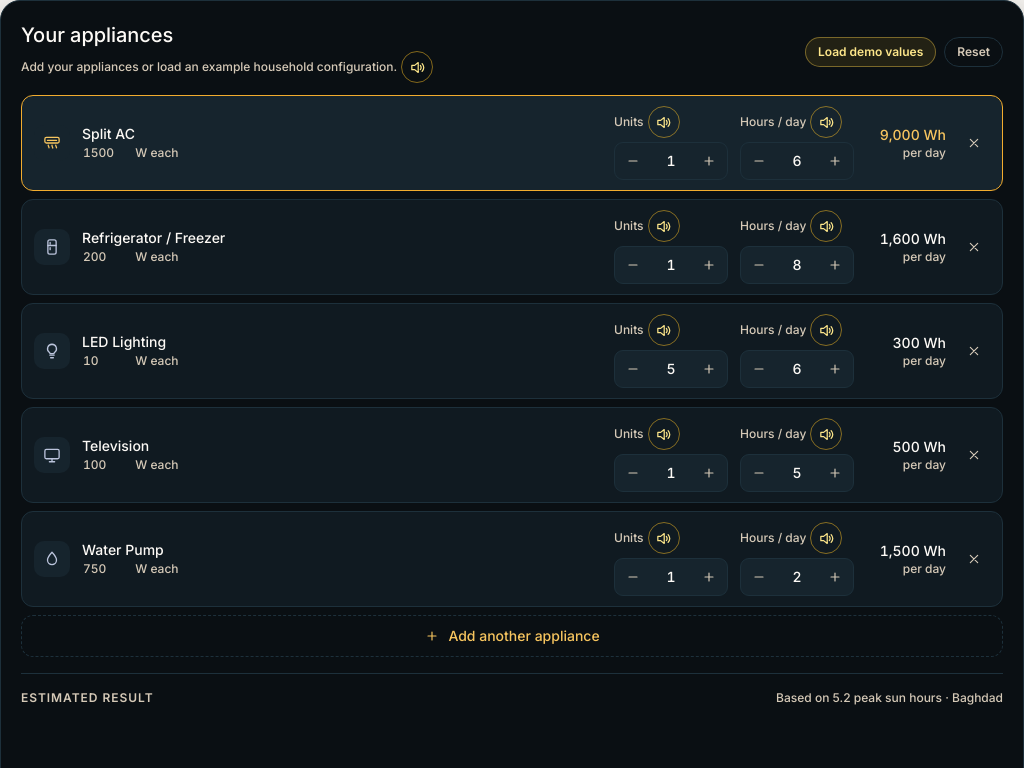
Test case: SolarCalculator smart devices › adds an evaporative cooler with its defaults, which can be turned off and removed
Click the button "Add another appliance": {"x": 512, "y": 636} [21, 615, 1003, 657]
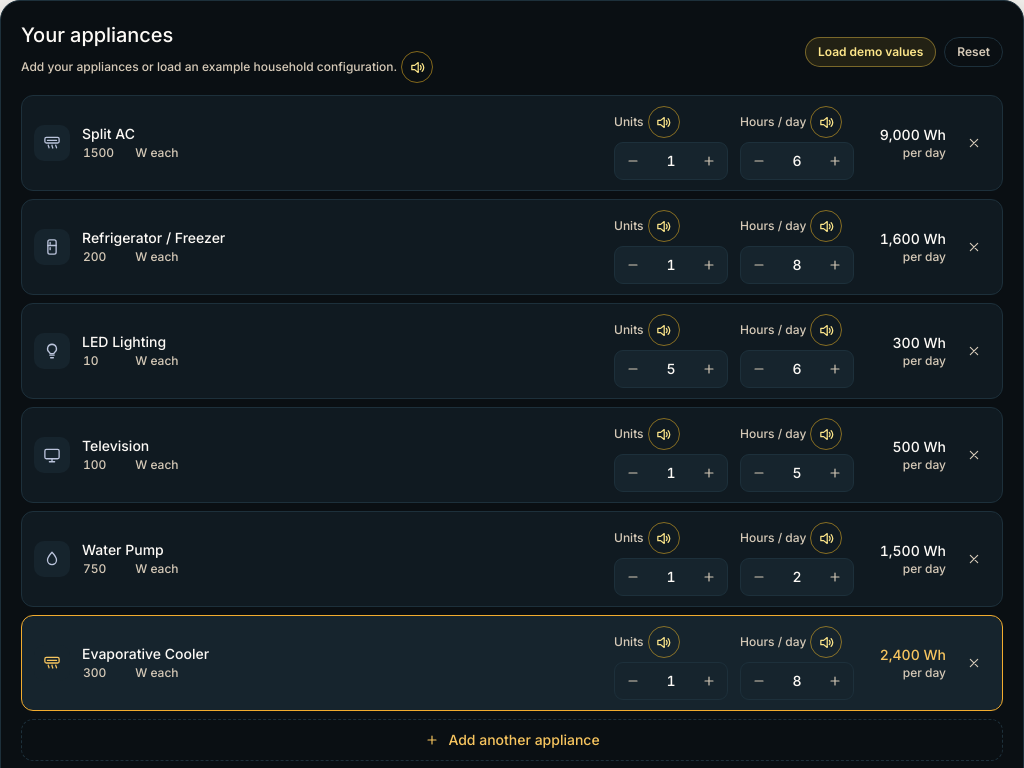
Click the button named "Decrease Evaporative Cooler units": {"x": 633, "y": 681} [615, 663, 651, 699]
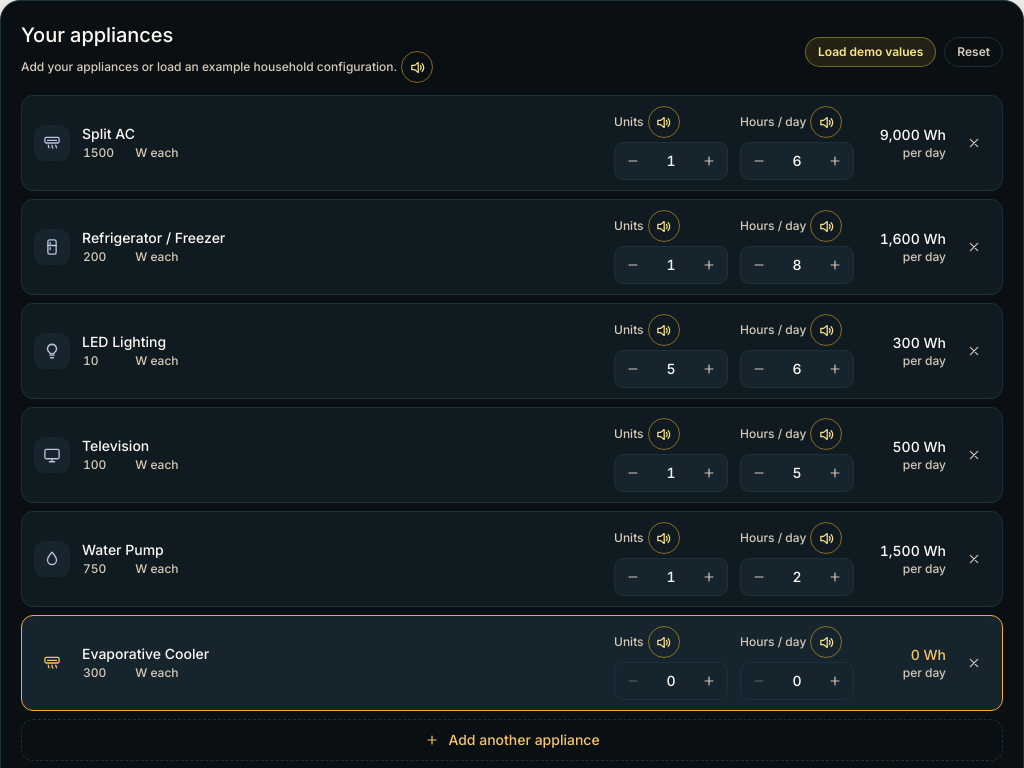
Click the button named "Remove Evaporative Cooler": {"x": 974, "y": 663} [958, 647, 990, 679]
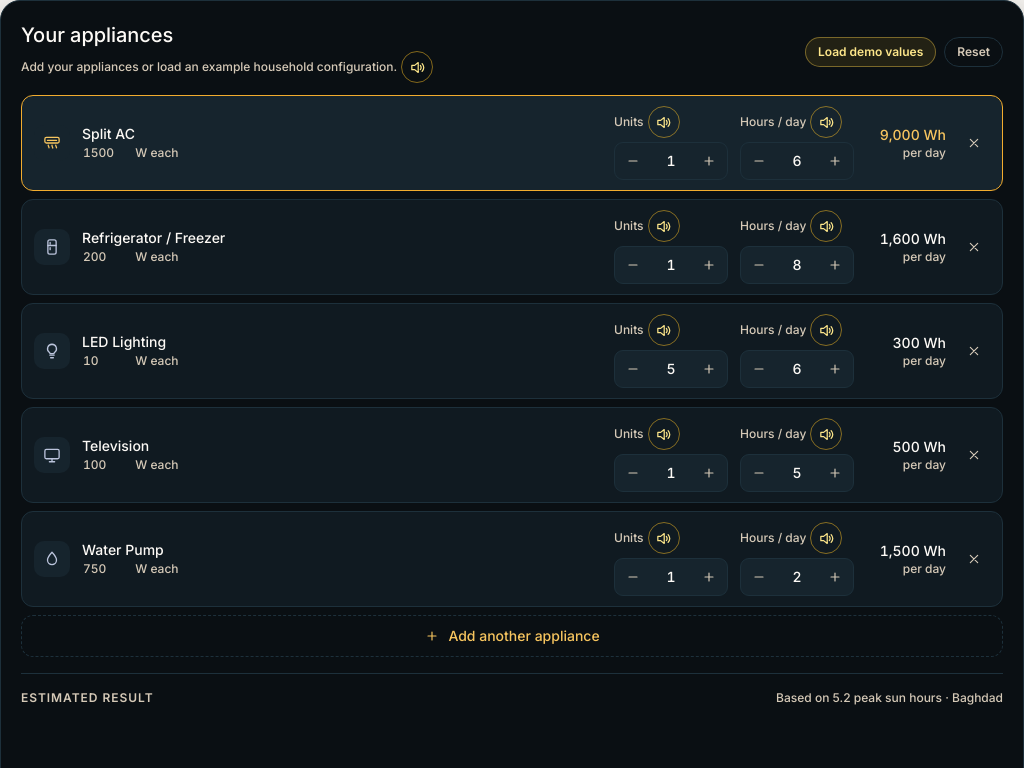
Now the button "Evaporative Cooler" is gone
